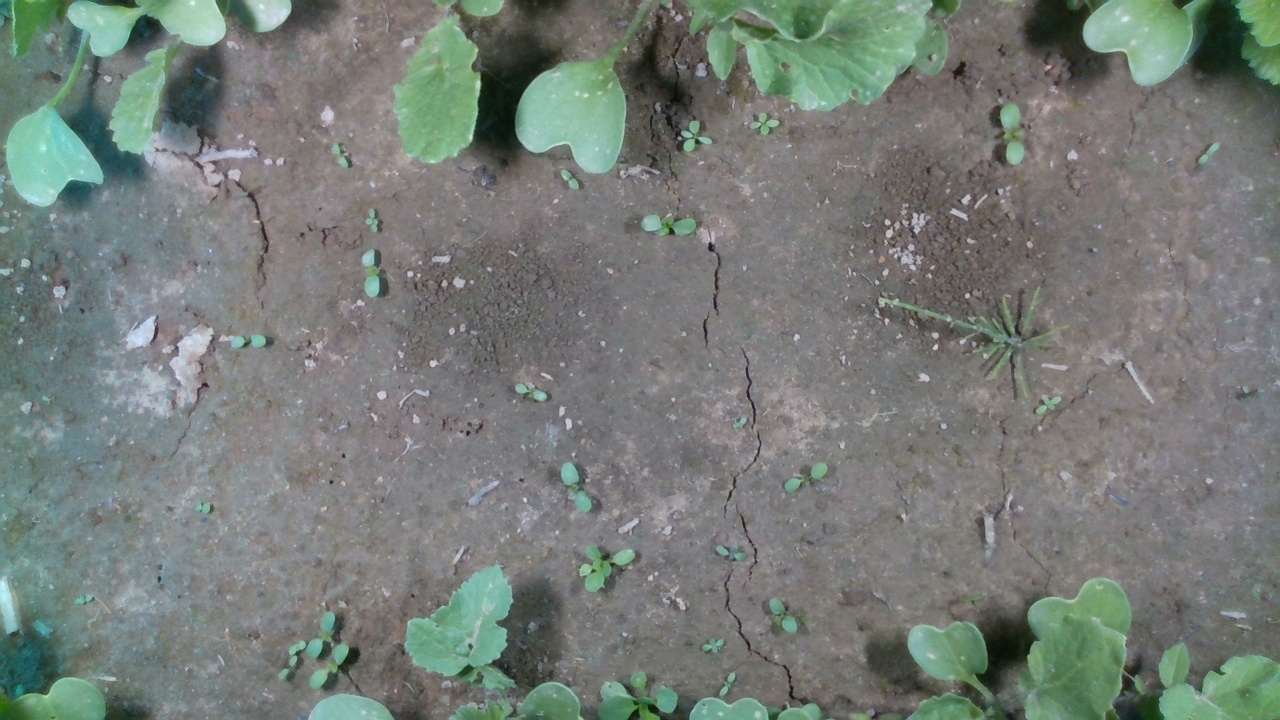weed: (999, 102, 1027, 165), (560, 459, 592, 513), (782, 461, 829, 493), (678, 118, 714, 152), (767, 596, 798, 634), (360, 245, 380, 301), (514, 379, 548, 406), (749, 111, 782, 135), (1033, 394, 1063, 418), (327, 140, 350, 170), (1197, 140, 1223, 165), (229, 333, 268, 349), (558, 168, 580, 193), (714, 544, 748, 560), (718, 671, 736, 698), (700, 635, 725, 654), (364, 206, 380, 234)
